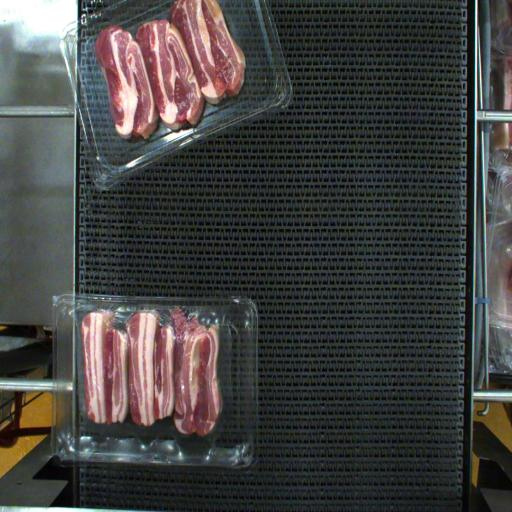unsealed: (78, 319, 236, 448)
